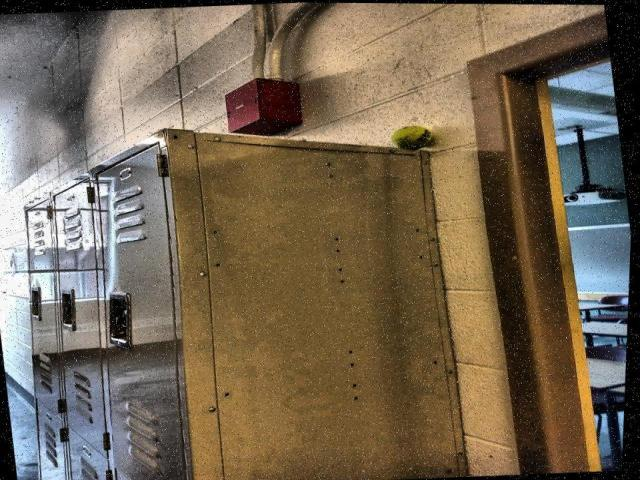tennis-ball: (391, 126, 434, 150)
